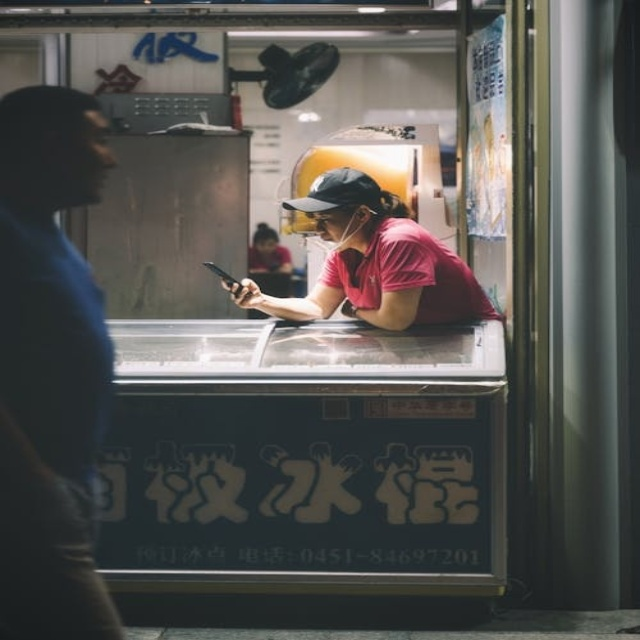Sin_gafas: (87, 128, 113, 146), (305, 214, 343, 225)
Sin_guantes: (223, 276, 264, 308)
Sin_mascara: (69, 163, 114, 200), (320, 234, 346, 246)
